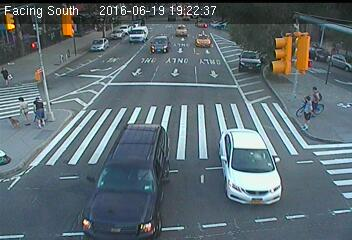neg: (132, 161, 158, 195), (248, 146, 266, 171), (231, 49, 248, 71), (4, 112, 20, 133), (196, 31, 212, 52), (59, 43, 75, 64), (47, 24, 60, 43), (27, 34, 39, 50), (294, 105, 305, 120), (1, 150, 11, 166), (318, 102, 326, 113), (71, 26, 79, 36)
pos: (25, 93, 54, 131), (295, 95, 322, 131), (303, 84, 328, 117), (11, 93, 34, 124)
